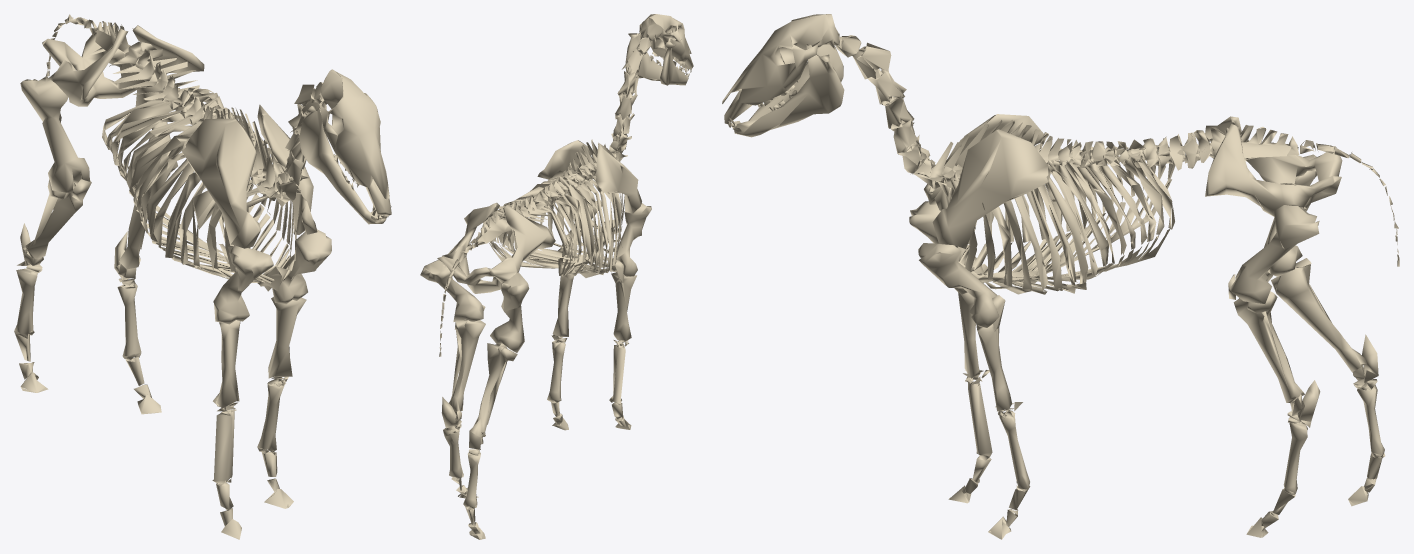
Rendered from carcass_bones.glb.
3 views of the same model, side by side, from view 1: azimuth 30°, elevation 25°; view 2: azimuth 150°, elevation 25°; view 3: azimuth 270°, elevation 25° (orthographic). The views are drawn at different scales.
Visible parts, largest first — view 1: Object_35, Object_49, Object_48, Object_46, Object_7, Object_47, Object_10, Object_11, Object_44, Object_9, Object_12, Object_45 (+25 smaller); view 2: Object_48, Object_46, Object_49, Object_35, Object_43, Object_6, Object_47, Object_42, Object_11, Object_8, Object_7, Object_41 (+19 smaller); view 3: Object_34, Object_48, Object_49, Object_47, Object_8, Object_43, Object_12, Object_41, Object_45, Object_9, Object_11, Object_10 (+18 smaller).
Part boxes in pixels (box(x1,y1,x2,y2)): Object_35: box(182, 118, 260, 248); Object_49: box(319, 69, 391, 216); Object_48: box(42, 25, 204, 106); Object_46: box(20, 76, 89, 192); Object_7: box(86, 19, 300, 260); Object_47: box(299, 93, 386, 224); Object_10: box(134, 127, 279, 525); Object_11: box(141, 152, 291, 272); Object_44: box(213, 245, 273, 324); Object_9: box(19, 122, 293, 539); Object_12: box(24, 136, 282, 278); Object_45: box(272, 229, 331, 304); Object_48: box(437, 202, 555, 293); Object_46: box(490, 272, 529, 352); Object_49: box(639, 14, 693, 69); Object_35: box(596, 143, 641, 213); Object_43: box(420, 260, 483, 321); Object_6: box(443, 51, 655, 455); Object_47: box(625, 29, 688, 85); Object_42: box(449, 319, 485, 412); Object_11: box(512, 182, 618, 277); Object_8: box(451, 184, 591, 524); Object_7: box(469, 180, 624, 262); Object_41: box(474, 343, 517, 436); Object_34: box(932, 129, 1050, 248); Object_48: box(1205, 116, 1342, 216); Object_49: box(722, 14, 839, 124); Object_47: box(734, 44, 844, 137); Object_8: box(950, 146, 1385, 514); Object_43: box(1230, 205, 1319, 303); Object_12: box(1015, 160, 1364, 415); Object_41: box(1271, 258, 1366, 372); Object_45: box(918, 243, 999, 327); Object_9: box(948, 159, 1376, 539); Object_11: box(992, 165, 1087, 294); Object_10: box(963, 148, 1278, 528).
Bounding box in the file's own units: 0.5461 × 1.97 × 2.4.
